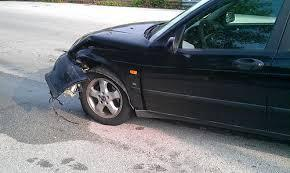bonnet-dent: (97, 23, 139, 49)
front-bumper-dent: (51, 60, 92, 103)
